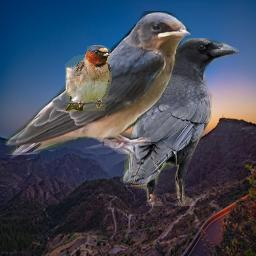Crow: (120, 38, 239, 206)
Swallow: (4, 11, 192, 163), (64, 45, 113, 111)
